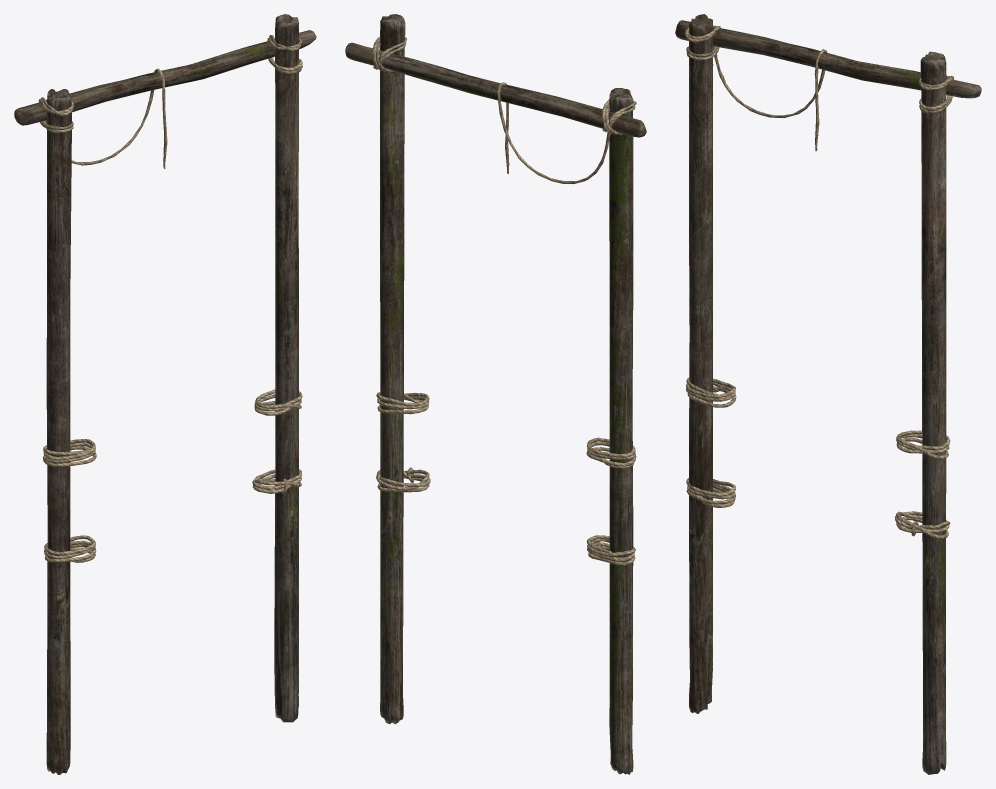
File: modular_wooden_pier_section_05.gltf
The picture shows the model from 3 angles, left to right: view 1: azimuth 30°, elevation 25°; view 2: azimuth 150°, elevation 25°; view 3: azimuth 330°, elevation 25°; orthographic projection. The views are drawn at different scales.
Visible parts, largest first — view 1: modular_wooden_pier_section_05__x; view 2: modular_wooden_pier_section_05__x; view 3: modular_wooden_pier_section_05__x.
Boxes of the visible parts, x1=… form: modular_wooden_pier_section_05__x: x1=14, y1=14, x2=316, y2=774; modular_wooden_pier_section_05__x: x1=345, y1=14, x2=646, y2=774; modular_wooden_pier_section_05__x: x1=675, y1=14, x2=981, y2=774.
Bounding box in the file's own units: 3.1 × 7 × 0.4646.
2 materials, 2 textured.
